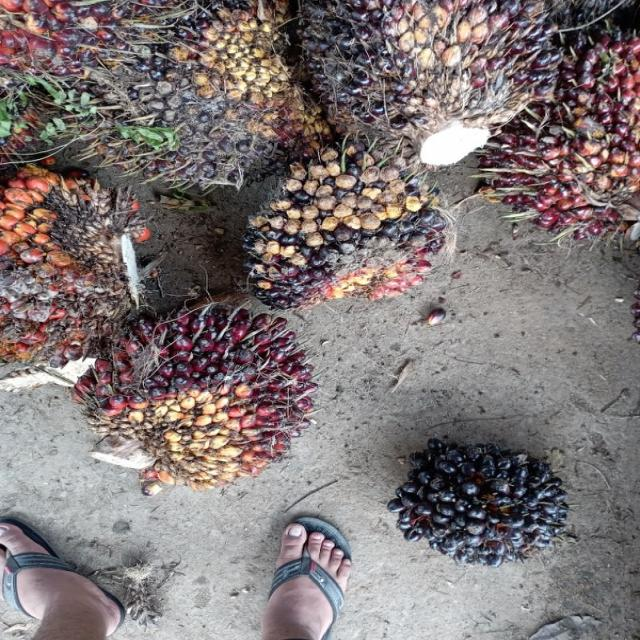fraksi 00: (67, 0, 312, 195), (291, 0, 564, 161), (239, 144, 462, 323), (398, 433, 582, 570)
fraksi 1: (76, 303, 320, 476)
fraksi 4: (0, 146, 140, 391)
